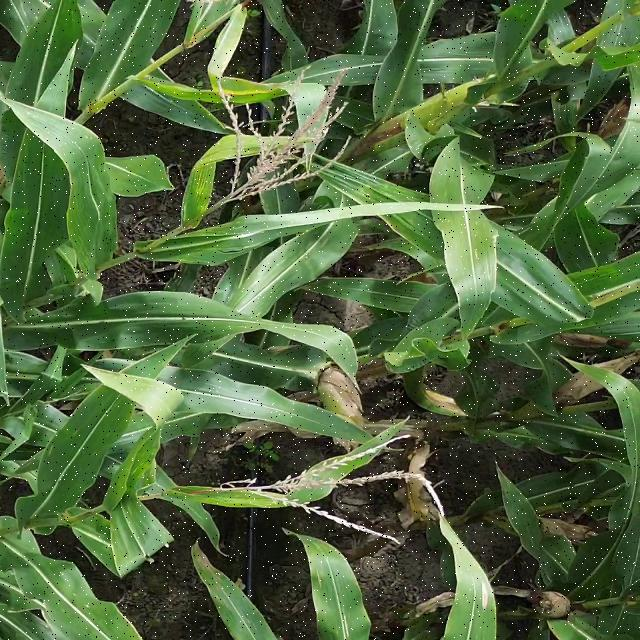northern-leaf-blight: (174, 132, 255, 222), (218, 36, 290, 115)
southern-leaf-blight: (350, 178, 493, 256), (43, 430, 156, 505), (189, 551, 271, 640)
